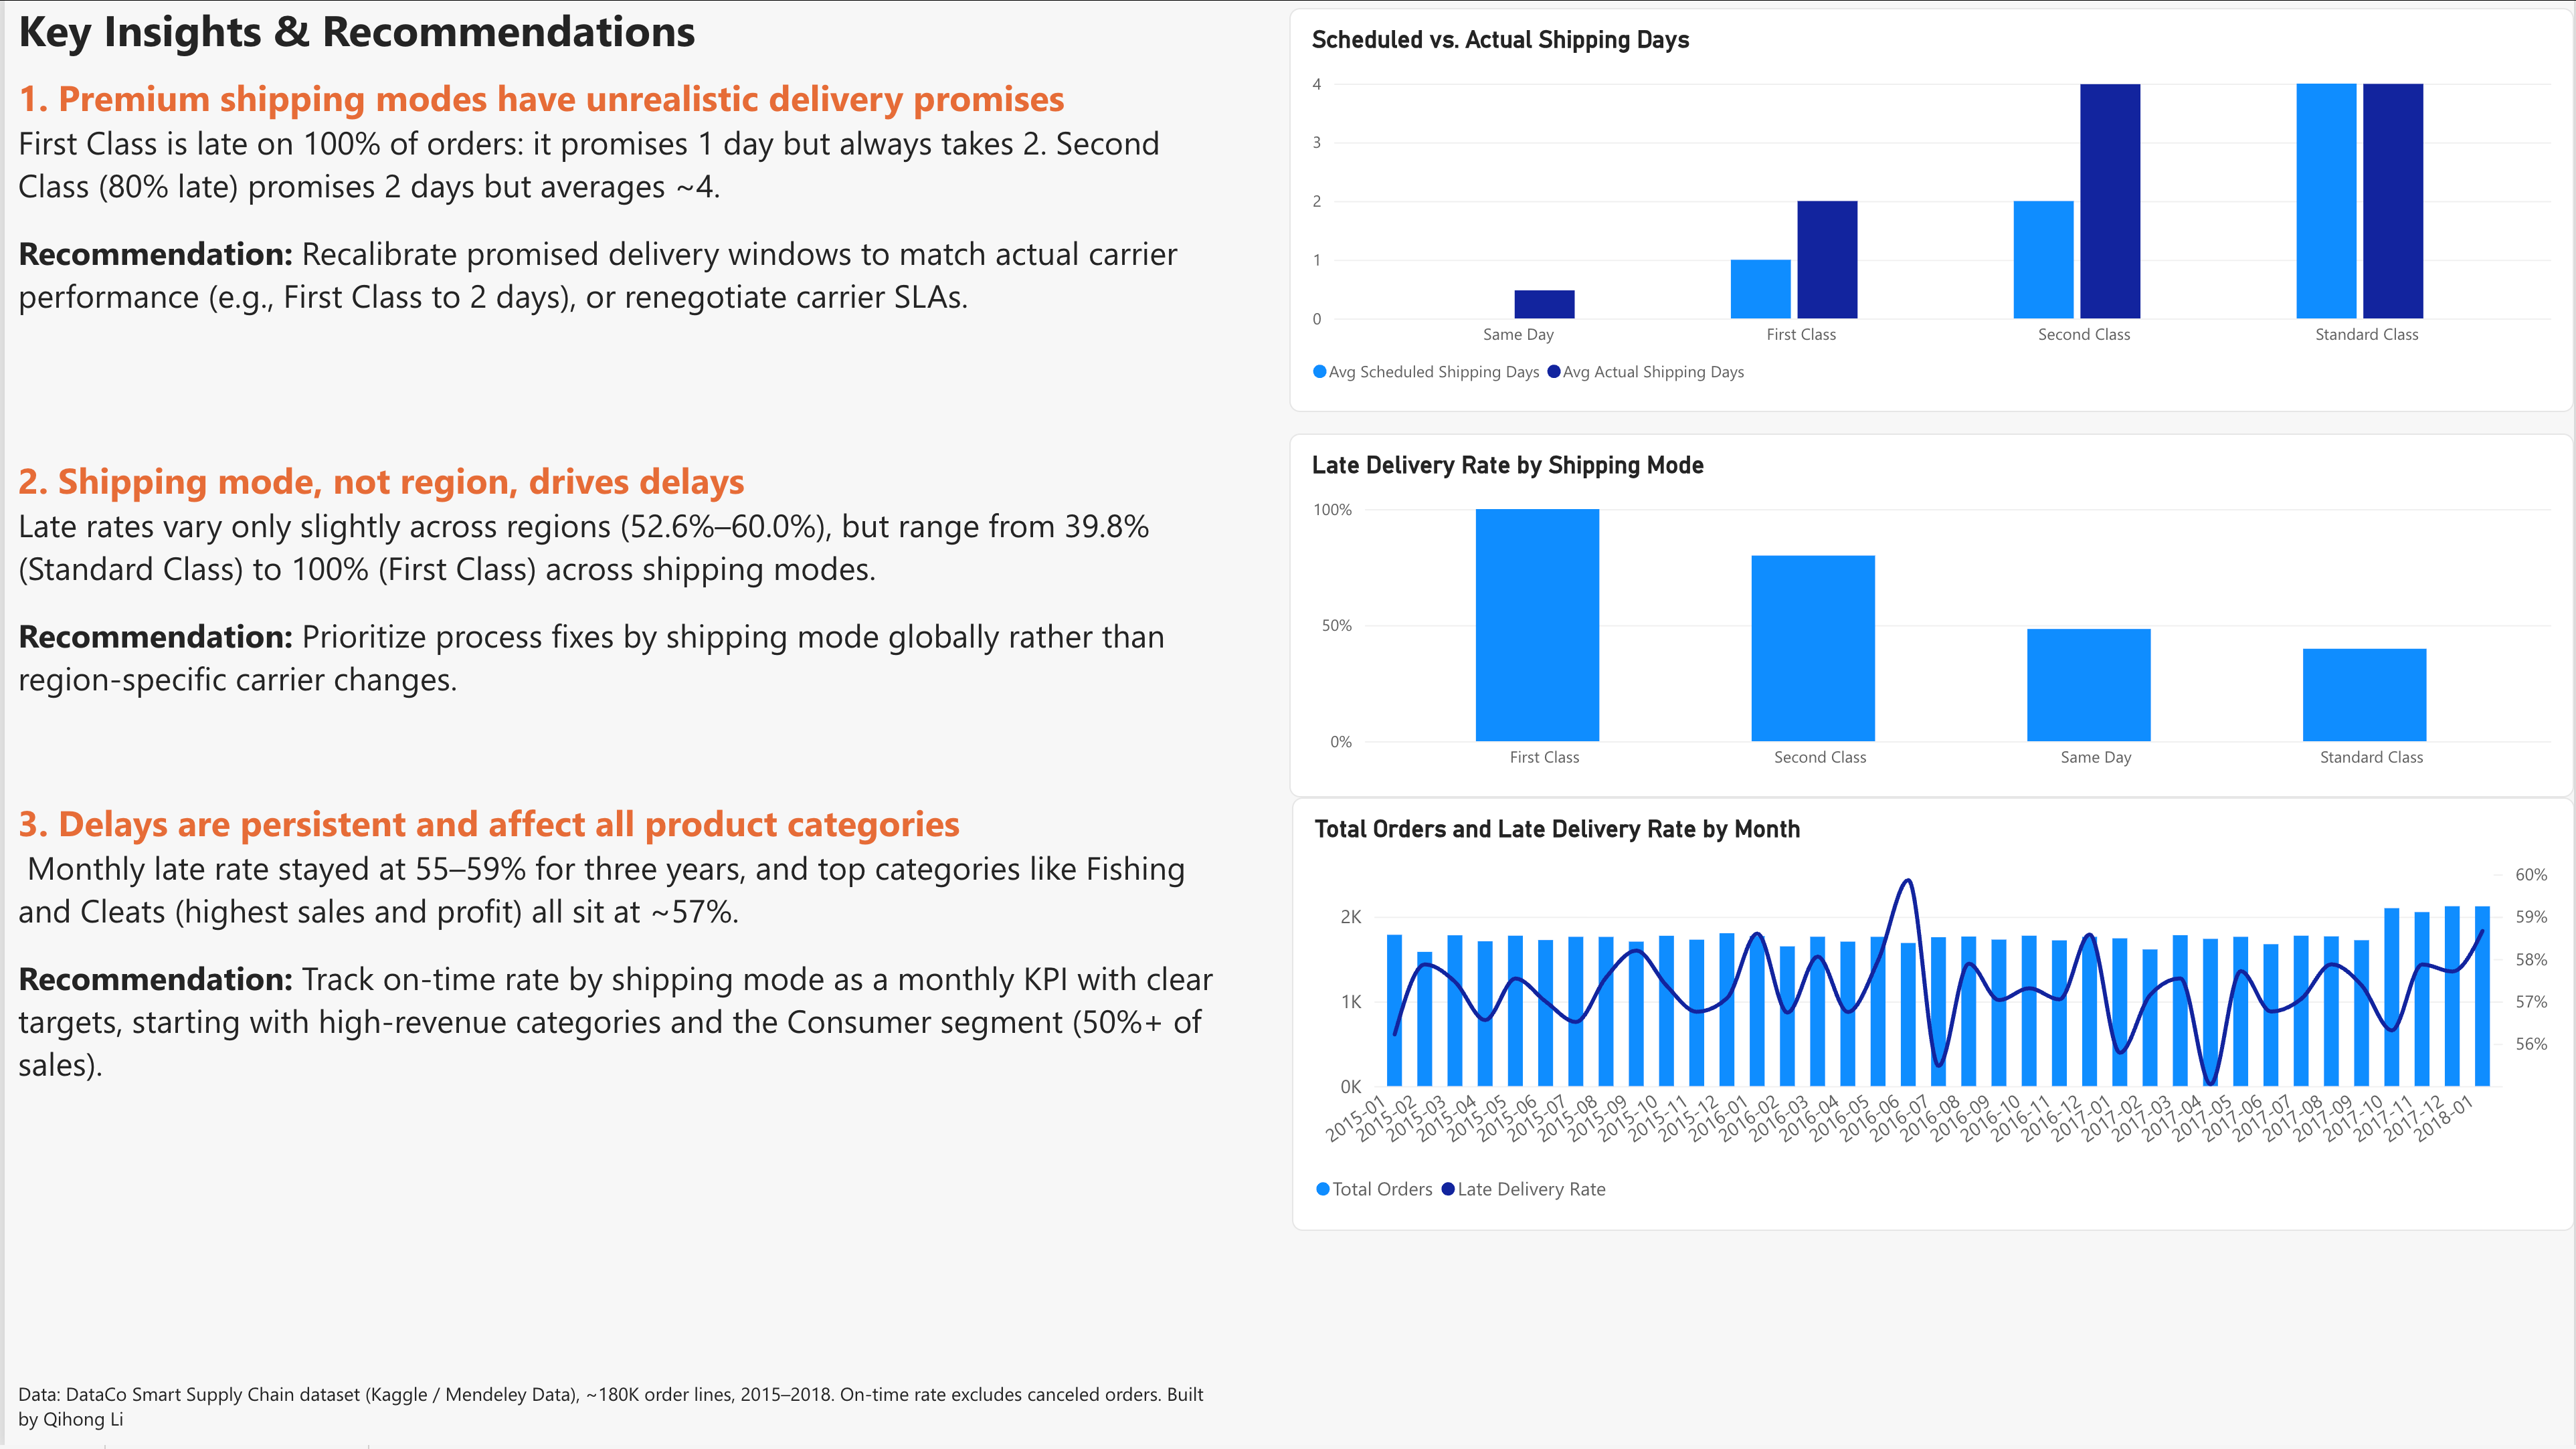

This screenshot's page, from the dashboard's own definition file:
{"tool":"powerbi","page":{"name":"Insights","canvas":[1920,1080],"ordinal":3},"visuals":[{"type":"textbox","box":[10,0,725,77.5],"z":0},{"type":"textbox","box":[10,54,900,230],"z":1000},{"type":"textbox","box":[10,340,900,256],"z":2000},{"type":"textbox","box":[10,595.6,900,484.4],"z":3000},{"type":"clusteredColumnChart","title":"Scheduled vs. Actual Shipping Days","fields":{"Category":["Orders.Shipping Mode"],"Y":["Orders.Avg Scheduled Shipping Days","Orders.Avg Actual Shipping Days"]},"box":[960,6,960,302],"z":3001},{"type":"clusteredColumnChart","fields":{"Category":["Orders.Shipping Mode"],"Y":["Orders.Late Delivery Rate"]},"box":[960,324,960,272],"z":3002},{"type":"lineStackedColumnComboChart","fields":{"Category":["Date Table.Month"],"Y":["Orders.Total Orders"],"Y2":["Orders.Late Delivery Rate"]},"box":[961.6,595.8,958.4,323.8],"z":3003},{"type":"textbox","box":[960,920,946,150],"z":3004}]}

Visuals, with their boxes in screenshot pixels (x1, y1, x2, y2), scaled from the page's 1920x1080 canvas onto the 2576x1449 screenshot:
textbox: box(13, 0, 986, 104)
textbox: box(13, 72, 1221, 381)
textbox: box(13, 456, 1221, 799)
textbox: box(13, 799, 1221, 1448)
"Scheduled vs. Actual Shipping Days" clusteredColumnChart: box(1288, 8, 2575, 413)
clusteredColumnChart - Orders.Shipping Mode x Orders.Late Delivery Rate: box(1288, 435, 2575, 799)
lineStackedColumnComboChart - Date Table.Month x Orders.Total Orders: box(1290, 799, 2575, 1234)
textbox: box(1288, 1234, 2557, 1436)
